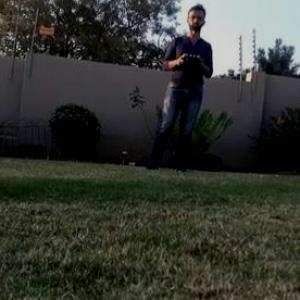follow: (141, 0, 218, 179)
